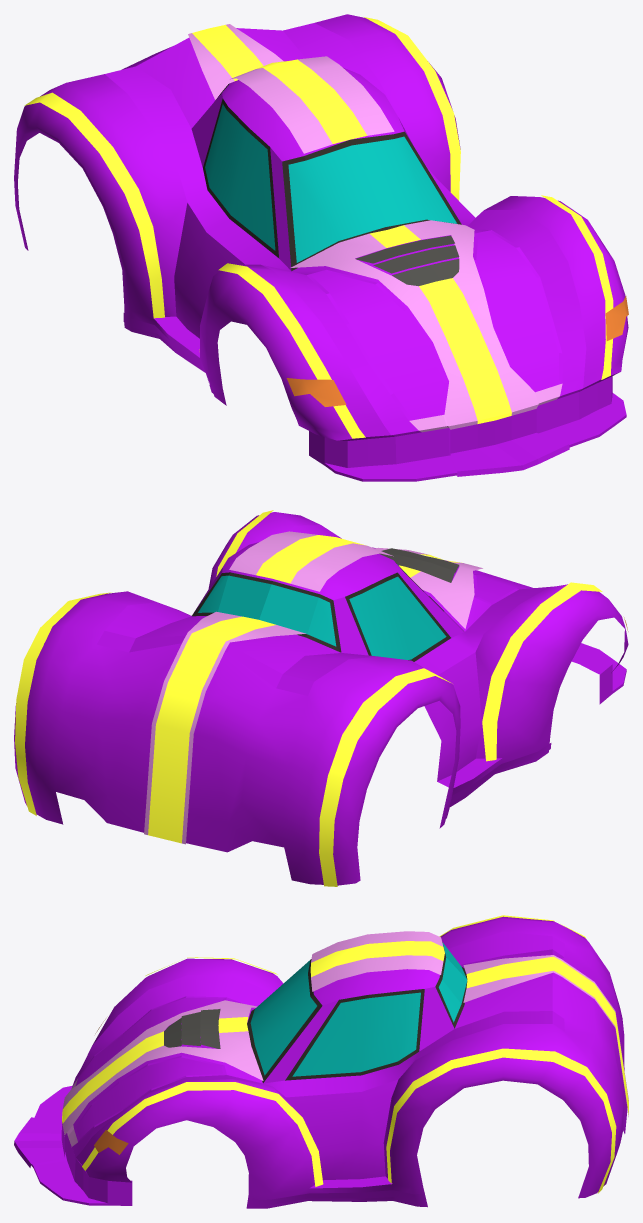
File: LuxCasing00E01.gltf
The picture shows the model from 3 angles, top to bottom: view 1: azimuth 30°, elevation 25°; view 2: azimuth 150°, elevation 25°; view 3: azimuth 270°, elevation 25°; orthographic projection. The views are drawn at different scales.
Parts seen in each view (by area): view 1: LuxCasing00E01; view 2: LuxCasing00E01; view 3: LuxCasing00E01.
Part boxes in pixels (left/top/right/bottom): LuxCasing00E01: left=14, top=14, right=628, bottom=481; LuxCasing00E01: left=14, top=510, right=628, bottom=886; LuxCasing00E01: left=14, top=915, right=628, bottom=1208.
Bounding box in the file's own units: 0.2129 × 0.1302 × 0.3663.
